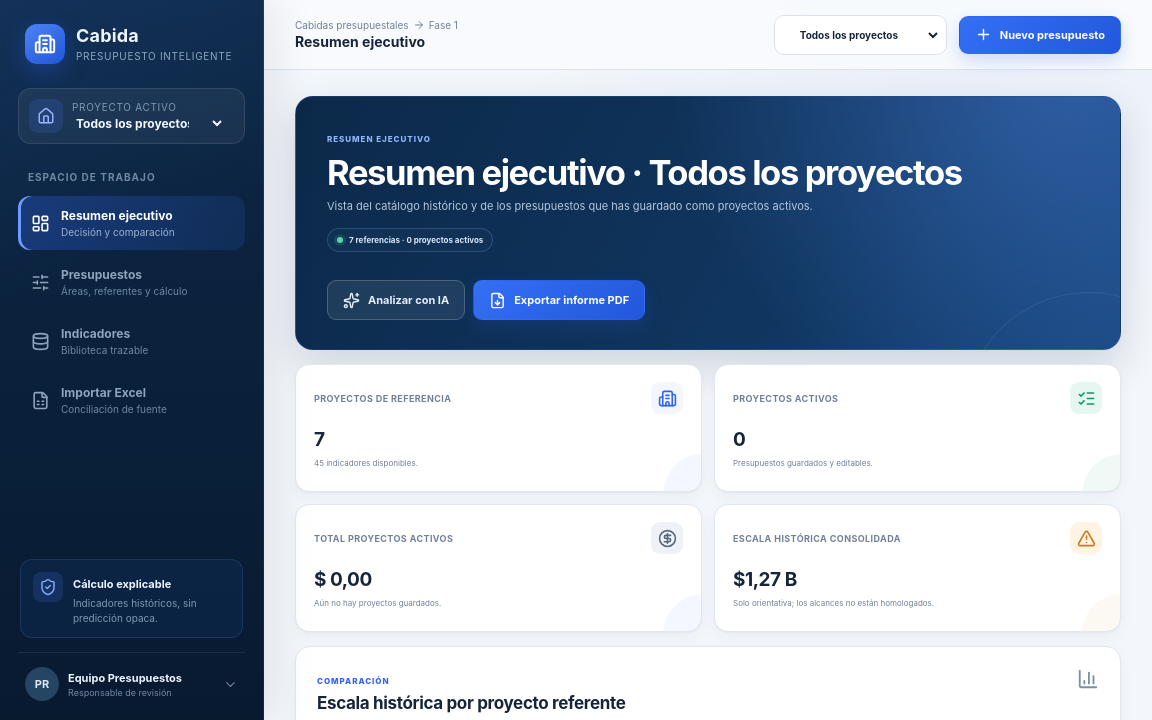
Test case: App › crea un presupuesto desde el proyecto activo, recalcula y deja cambiar el referente
Select "Arbore" in the dropdown labelled "Proyecto activo": (148, 123) [72,114,225,132]
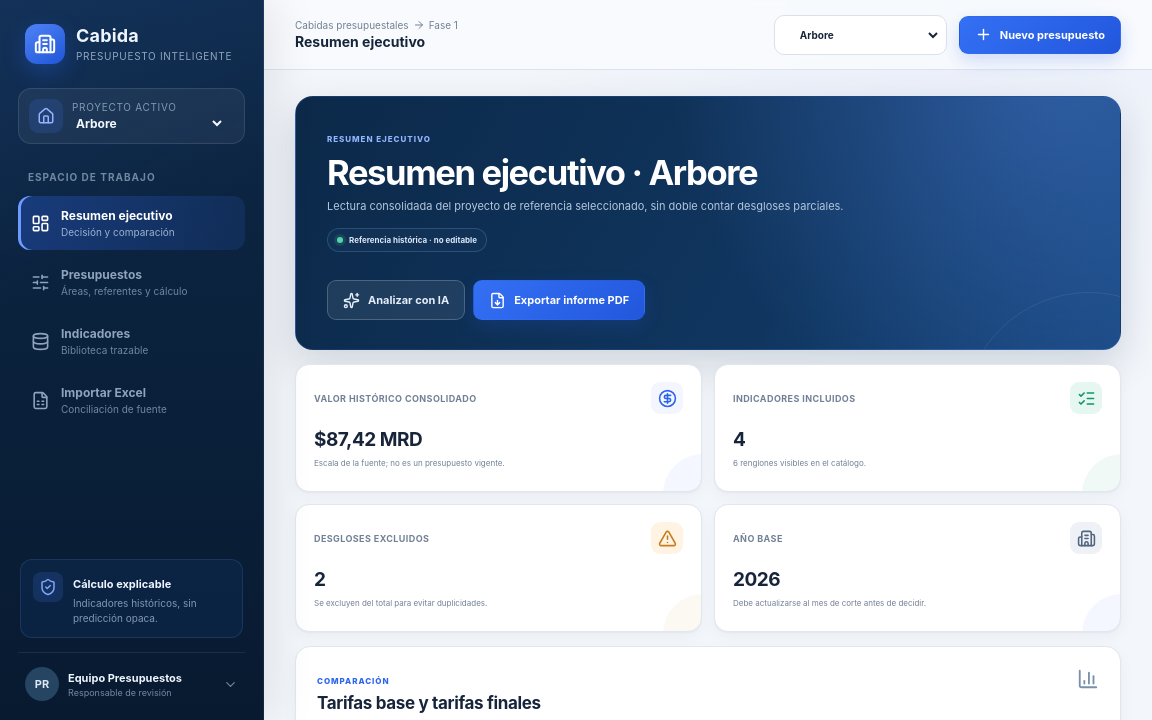
Expected: the header with class "topbar" is shown, [264,0,1151,70]
Click the button "Nuevo presupuesto": (1040, 34) [959,16,1121,54]
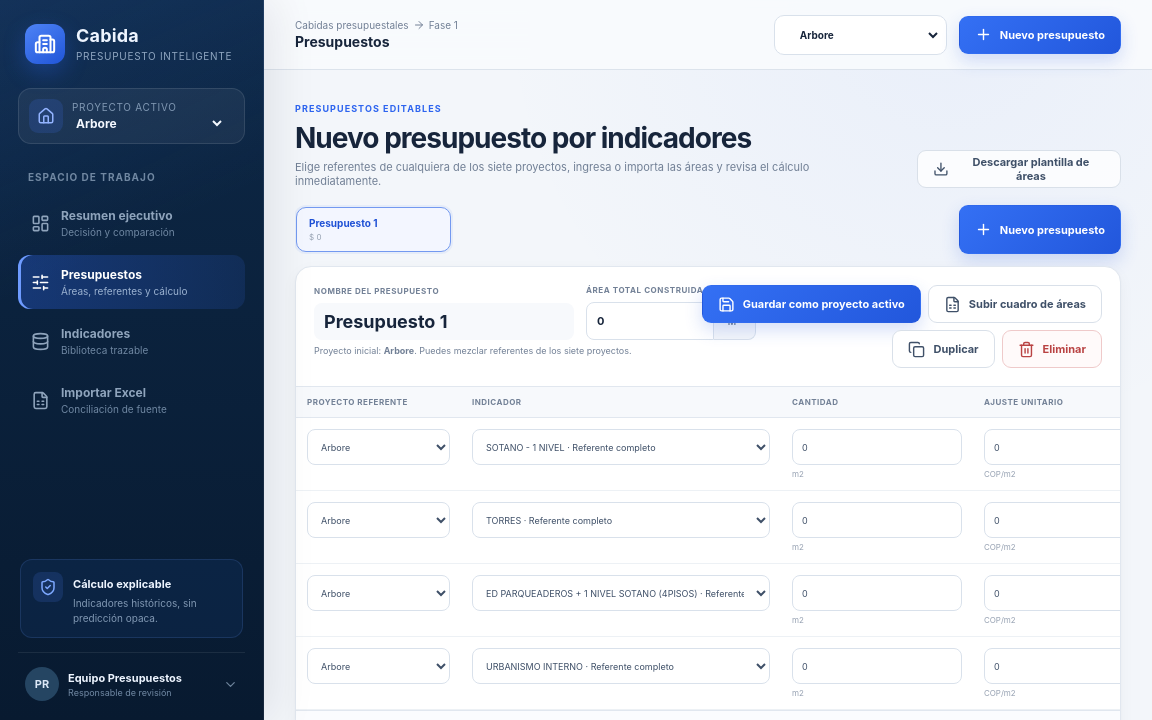
Expected: the heading "Nuevo presupuesto por indicadores" is shown, [295,121,751,155]
Expected: the text "Proyecto inicial:" shows "Proyecto inicial: Arbore", [314,345,673,356]
Expected: the number of number fields named "Cantidad de la línea" is 4
Replace the text in the number field named "Cantidad de la línea" with "10": (877, 447) [792,429,962,465]
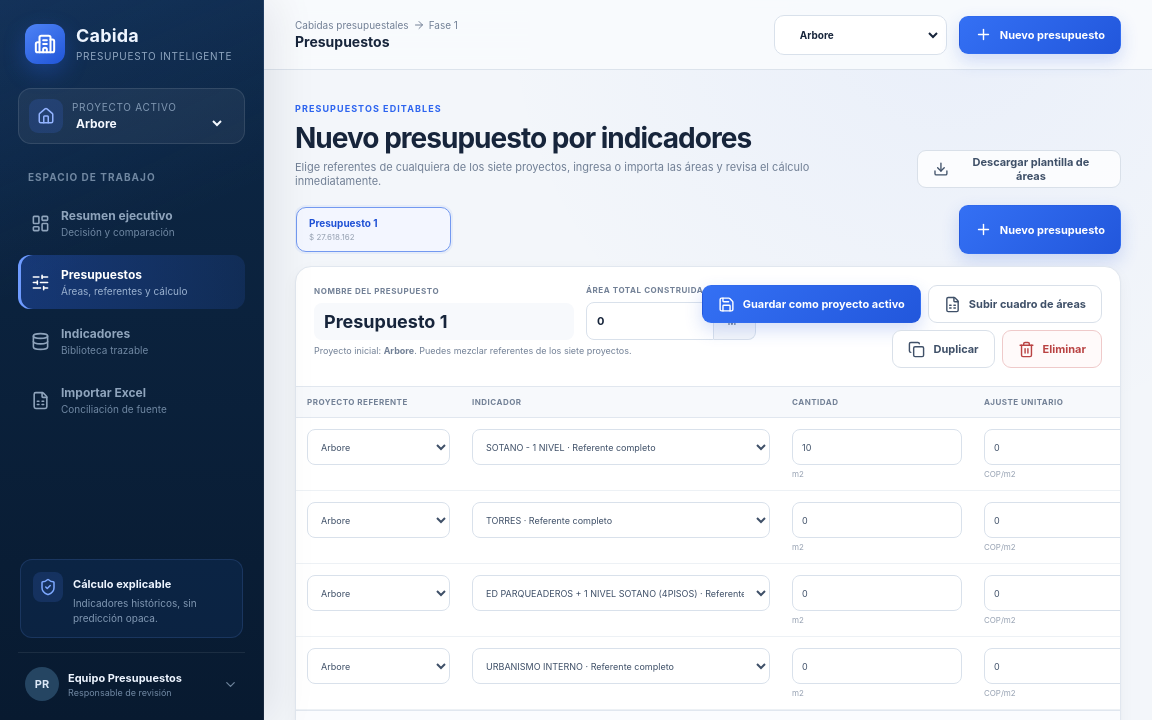
Select "Pinar VIS" in the dropdown named "Proyecto referente de la línea 1": (378, 447) [307,429,450,465]
(page scrolled)
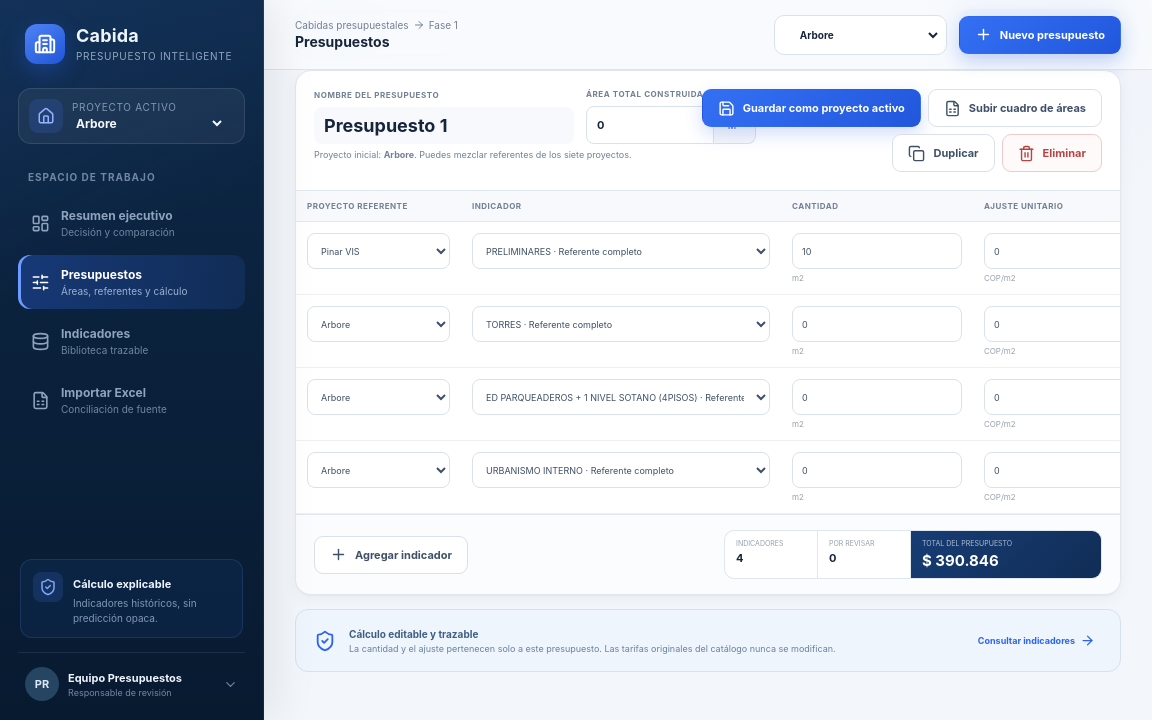
Expected: the dropdown named "Indicador de la línea 1" shows "PRELIMINARES · Referente completo", [472,233,770,269]
